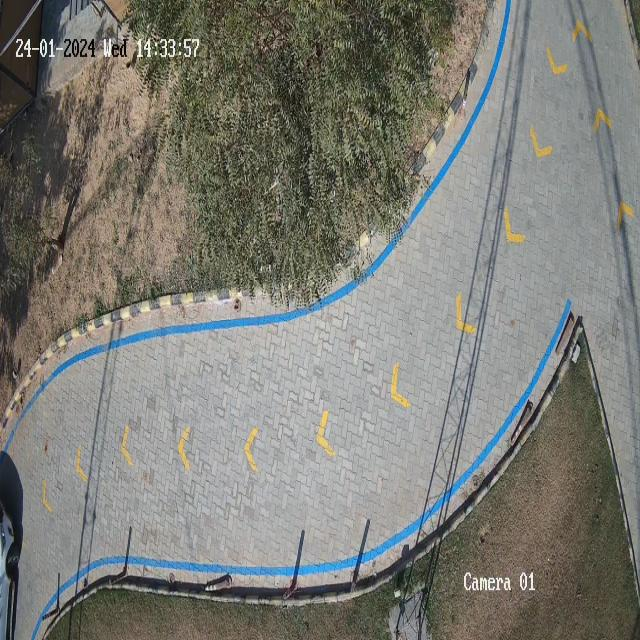car: (0, 502, 20, 639)
